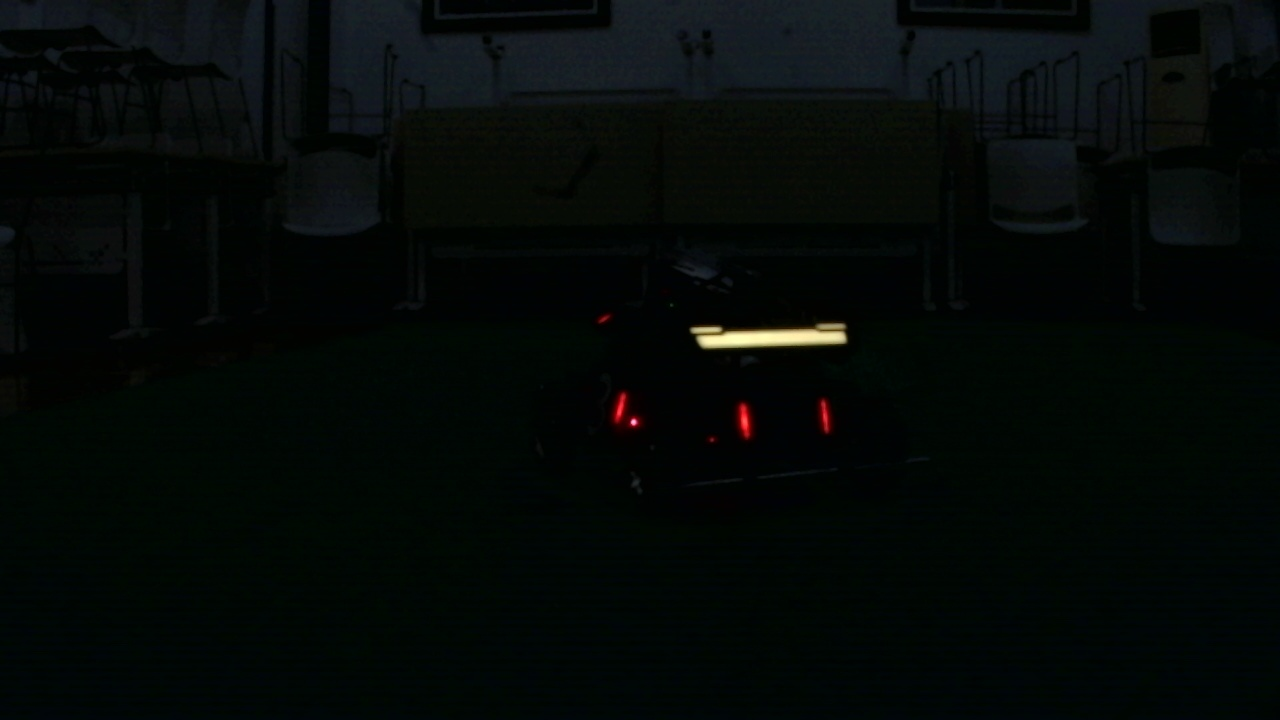lamp: (735, 400, 752, 437), (611, 391, 630, 422), (816, 396, 831, 432)
pair1: (736, 400, 833, 434)
